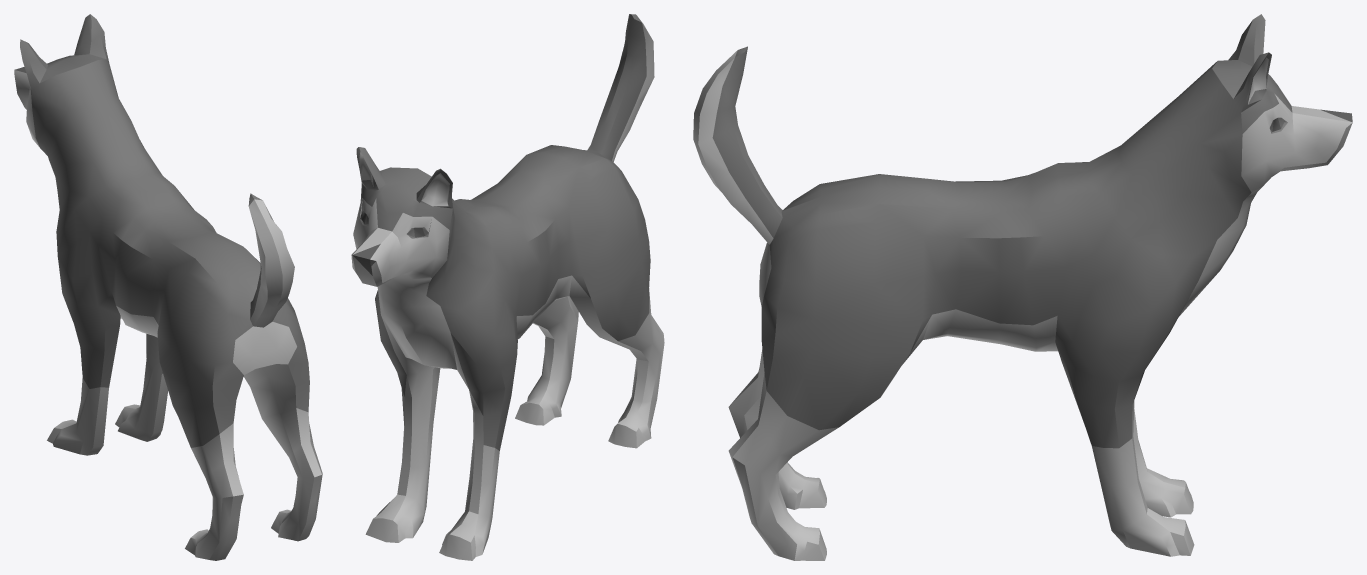
Rendered from cyan_sentry.glb.
The picture shows the model from 3 angles, left to right: view 1: azimuth 30°, elevation 25°; view 2: azimuth 150°, elevation 25°; view 3: azimuth 270°, elevation 25°; orthographic projection. The views are drawn at different scales.
Parts seen in each view (by area): view 1: Body; view 2: Body; view 3: Body.
Part boxes in pixels (bbox=[...]): Body: bbox=[14, 14, 322, 560]; Body: bbox=[351, 14, 664, 560]; Body: bbox=[693, 14, 1352, 560].
Bounding box in the file's own units: 0.2546 × 0.8199 × 0.9995.
1 material, 1 textured.
